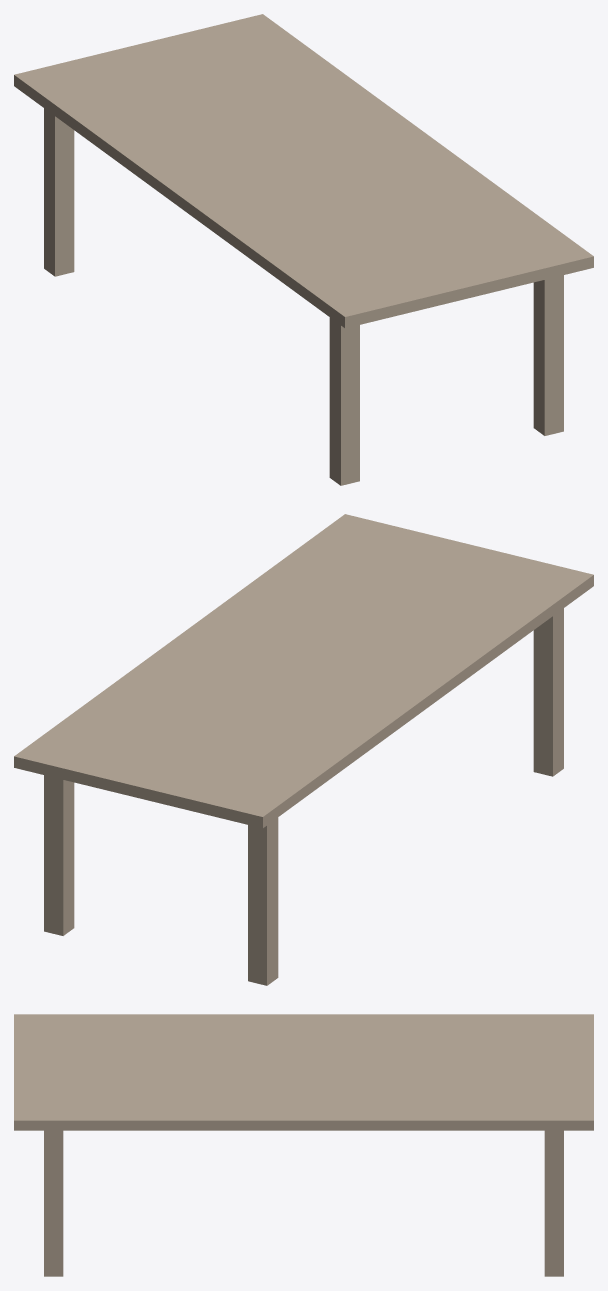
Rendered from GrandeTable_27.fbx.
The picture shows the model from 3 angles, top to bottom: view 1: azimuth 30°, elevation 25°; view 2: azimuth 150°, elevation 25°; view 3: azimuth 270°, elevation 25°; orthographic projection. The views are drawn at different scales.
Visible parts, largest first — view 1: pCube79, pCube77, pCube75, pCube78; view 2: pCube79, pCube75, pCube77, pCube76; view 3: pCube79, pCube78, pCube76.
Boxes of the visible parts, box(x1,y1,x2,y2) form: pCube79: box(14, 14, 593, 328); pCube77: box(329, 317, 359, 485); pCube75: box(44, 108, 74, 276); pCube78: box(533, 275, 563, 435); pCube79: box(14, 514, 593, 828); pCube75: box(248, 817, 278, 985); pCube77: box(533, 608, 563, 776); pCube76: box(44, 775, 74, 935); pCube79: box(14, 1014, 593, 1130); pCube78: box(44, 1130, 63, 1276); pCube76: box(544, 1130, 563, 1276).
Size of the model in its own units: 53.95 by 38.21 by 124.
